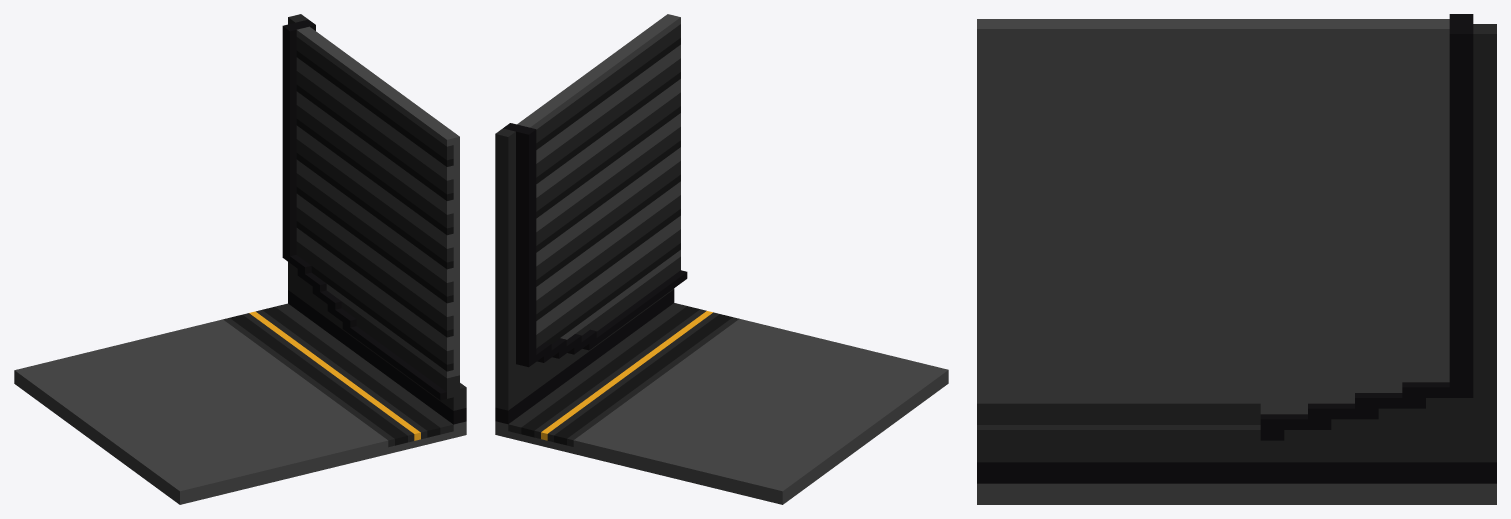
The model's file is mesh_hanger_ship_door_bottom_left.obj.
3 renders of one model, left to right at view 1: azimuth 30°, elevation 25°; view 2: azimuth 150°, elevation 25°; view 3: azimuth 270°, elevation 25°, orthographic. The views are drawn at different scales.
Bounding box in the file's own units: 4.4 × 4.4 × 4.4.
1 material, 1 textured.
